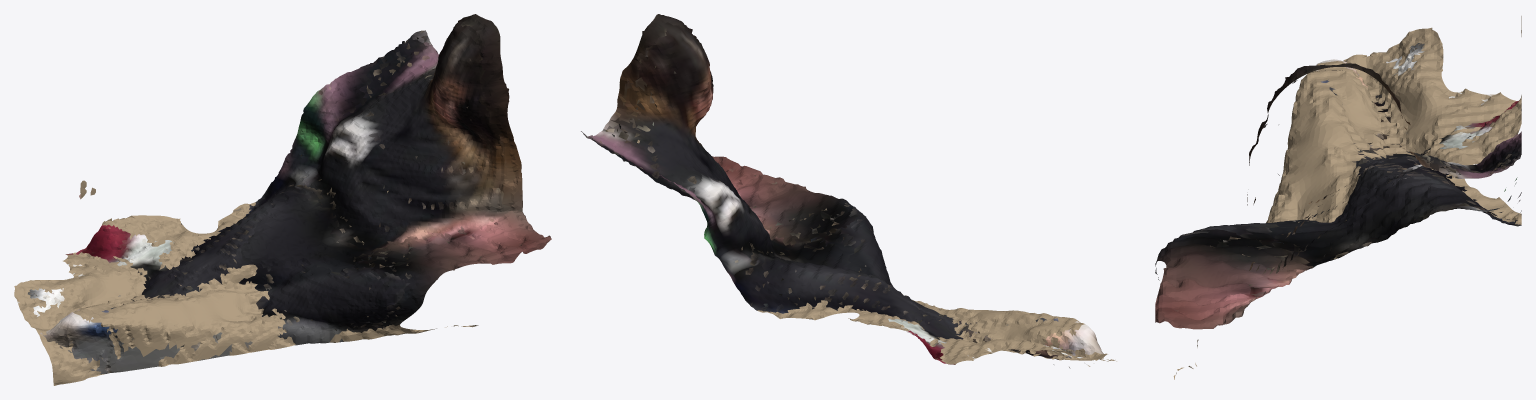
The picture shows the model from 3 angles, left to right: view 1: azimuth 30°, elevation 25°; view 2: azimuth 150°, elevation 25°; view 3: azimuth 270°, elevation 25°; orthographic projection. The views are drawn at different scales.
Size of the model in its own units: 1.24 by 0.6672 by 0.6148.
Materials: 1 (1 with a texture image).
